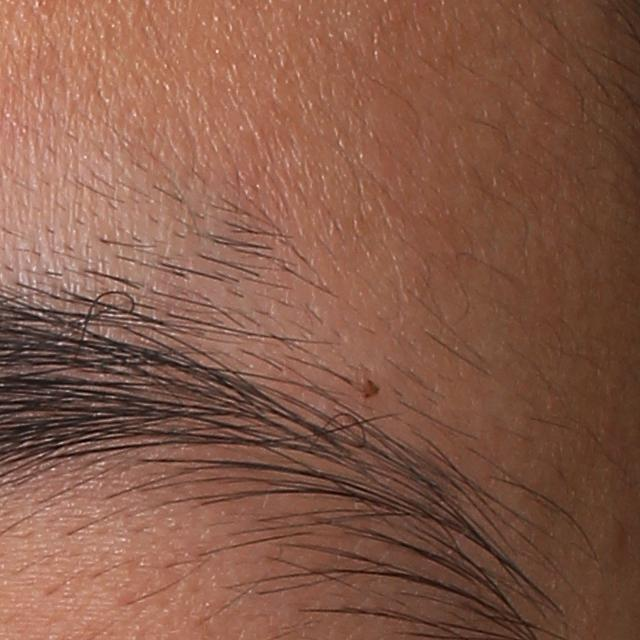nevus: (357, 375, 381, 403)
